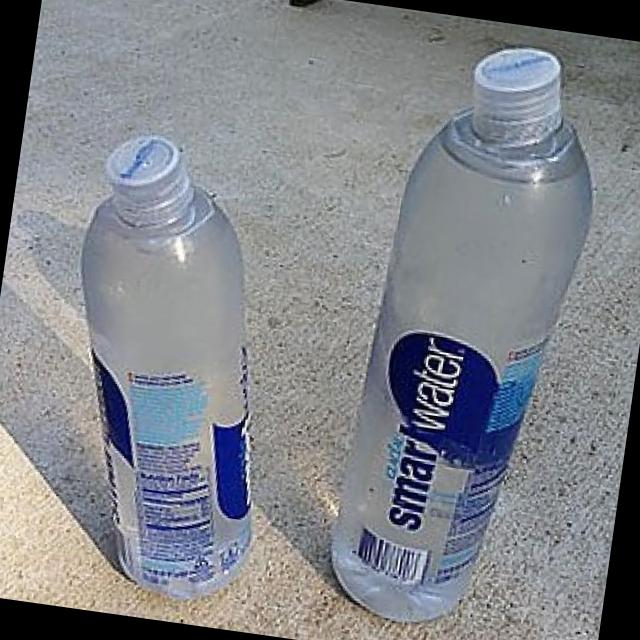plastic_bottle: (320, 30, 616, 640), (37, 130, 306, 606)
